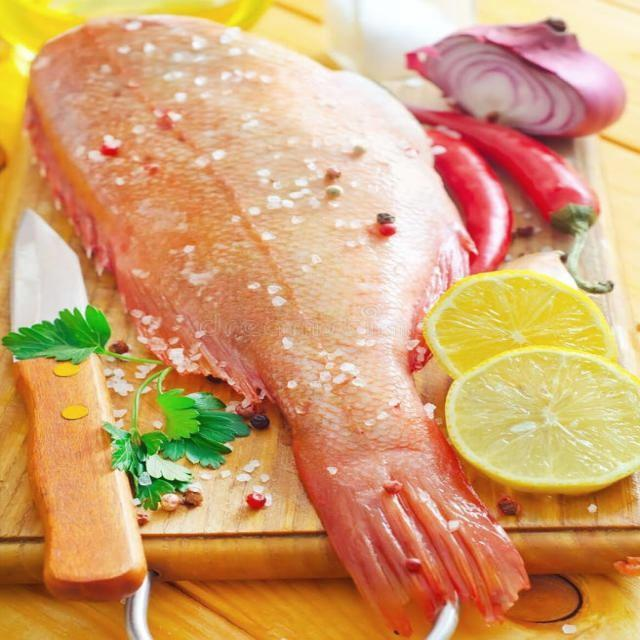fish: (25, 15, 527, 633)
